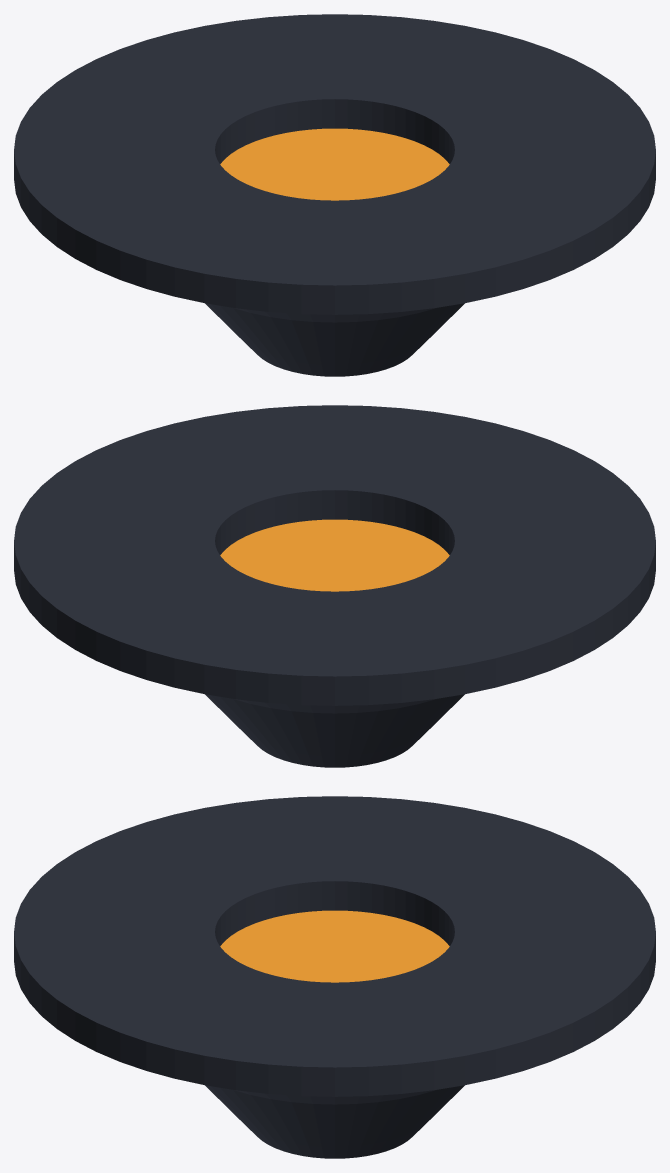
File: tip_flat_attack.glb
The picture shows the model from 3 angles, top to bottom: view 1: azimuth 30°, elevation 25°; view 2: azimuth 150°, elevation 25°; view 3: azimuth 270°, elevation 25°; orthographic projection.
Visible parts, largest first — view 1: GEO_tip_flat_attack_NSS_V1_COLLAR, GEO_tip_flat_attack_BODY; view 2: GEO_tip_flat_attack_NSS_V1_COLLAR, GEO_tip_flat_attack_BODY; view 3: GEO_tip_flat_attack_NSS_V1_COLLAR, GEO_tip_flat_attack_BODY.
Part boxes in pixels (box(x1,y1,x2,y2)): GEO_tip_flat_attack_NSS_V1_COLLAR: box(14, 14, 655, 314); GEO_tip_flat_attack_BODY: box(205, 128, 464, 376); GEO_tip_flat_attack_NSS_V1_COLLAR: box(14, 405, 655, 705); GEO_tip_flat_attack_BODY: box(205, 519, 464, 767); GEO_tip_flat_attack_NSS_V1_COLLAR: box(14, 796, 655, 1096); GEO_tip_flat_attack_BODY: box(205, 910, 464, 1158).
Size of the model in its own units: 0.0214 by 0.00704 by 0.0214.
